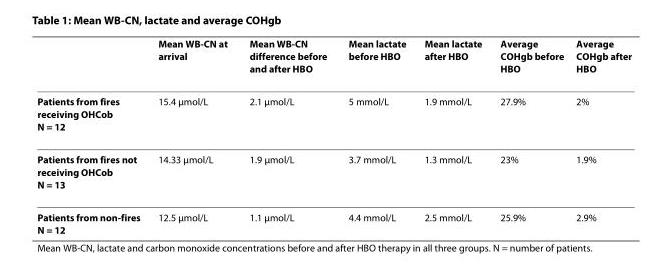table: (36, 36, 631, 235)
table column: (36, 36, 148, 235), (237, 36, 337, 235), (148, 36, 237, 235), (490, 36, 569, 235), (337, 36, 414, 235), (414, 36, 490, 235), (569, 36, 631, 235)
table column header: (36, 36, 631, 84)
table row: (36, 84, 631, 142), (36, 142, 631, 200), (36, 36, 631, 84), (36, 200, 631, 235)
